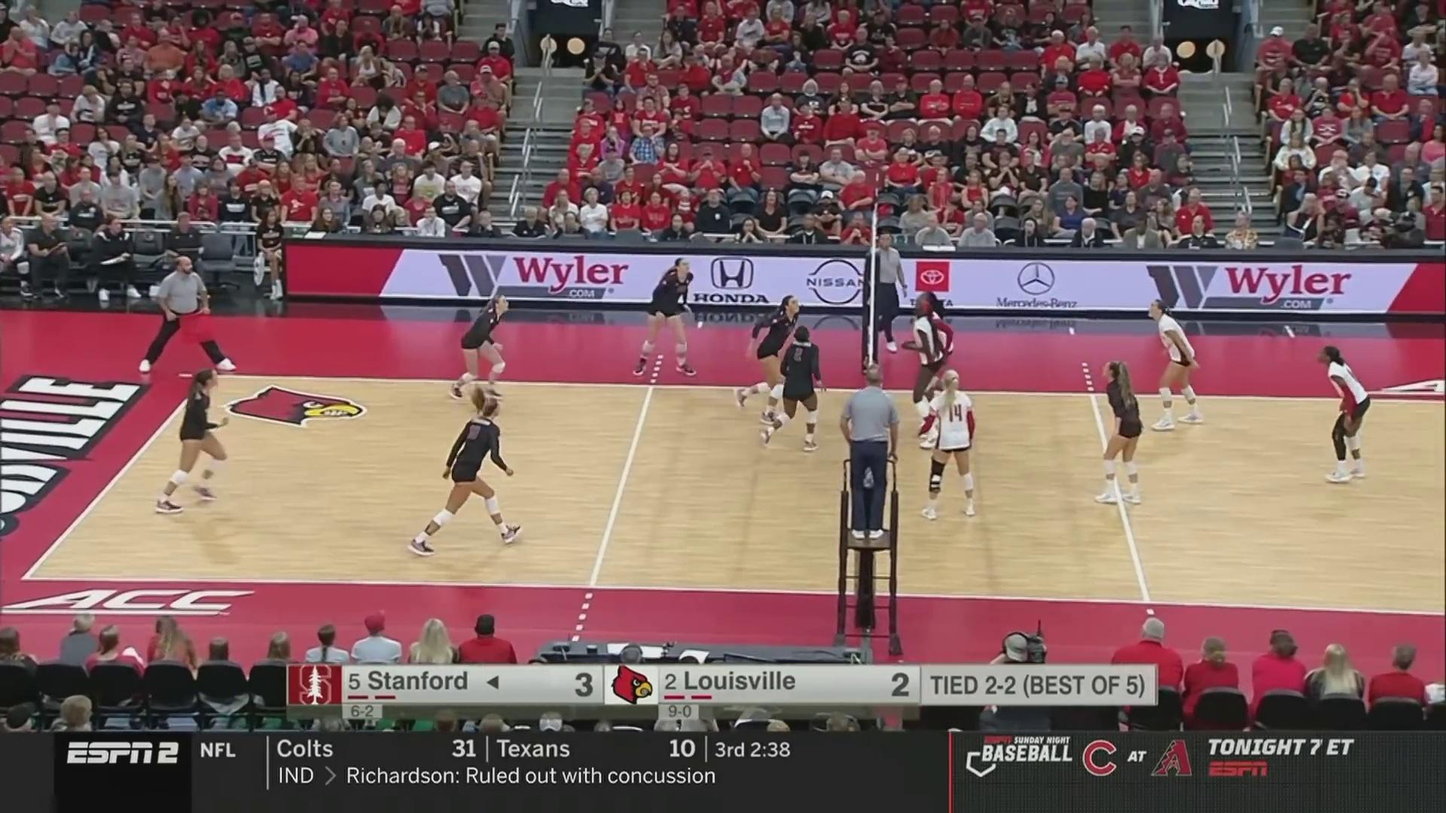player: (415, 396, 524, 554), (155, 370, 228, 516), (736, 296, 802, 424), (917, 370, 973, 516), (760, 325, 823, 451), (633, 259, 698, 377), (1316, 347, 1373, 480), (1147, 300, 1204, 431), (1096, 361, 1144, 509), (451, 296, 509, 398), (910, 300, 949, 448), (912, 290, 956, 421)
refree: (144, 256, 237, 371), (842, 368, 896, 538), (866, 234, 908, 353)
